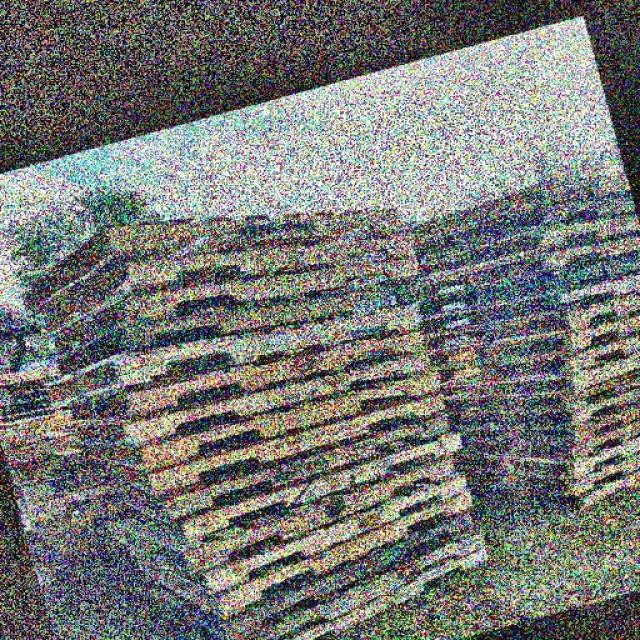non-igps: (104, 482, 480, 626), (16, 190, 408, 325), (93, 465, 477, 600), (113, 486, 479, 625), (88, 425, 470, 555), (100, 448, 462, 582), (33, 222, 423, 345), (40, 296, 432, 417), (44, 245, 430, 364), (143, 506, 480, 640), (79, 362, 447, 480), (91, 386, 452, 506), (48, 268, 413, 386), (118, 404, 456, 531), (116, 528, 494, 640), (60, 322, 433, 435), (73, 341, 440, 452), (281, 544, 494, 640), (408, 185, 638, 271), (407, 166, 636, 252), (411, 205, 639, 288), (408, 265, 638, 347), (409, 246, 639, 326), (402, 228, 638, 304), (415, 285, 639, 360), (418, 304, 639, 376), (418, 327, 639, 396), (434, 347, 639, 406), (438, 364, 639, 422), (441, 383, 638, 436), (450, 448, 639, 503), (447, 430, 639, 484), (463, 466, 639, 522), (455, 414, 639, 467), (439, 405, 639, 446)
